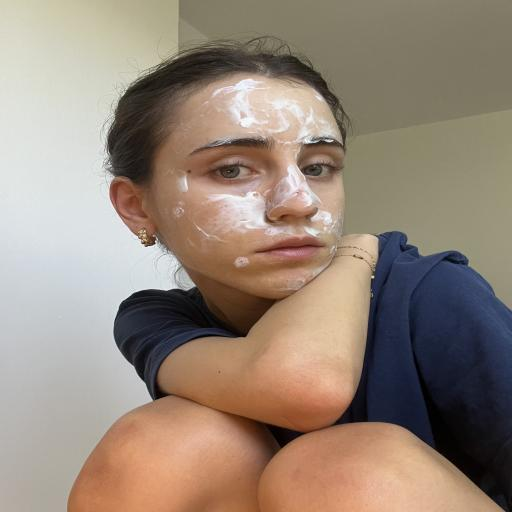masa: (147, 66, 355, 288)
